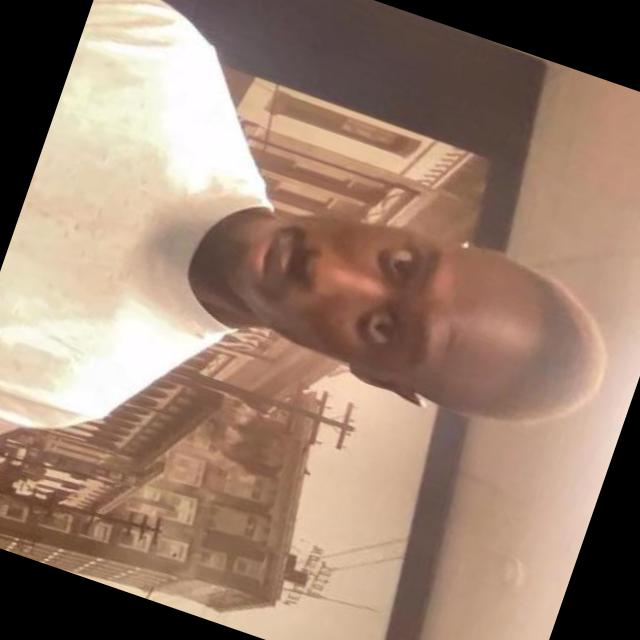bareface: (180, 152, 619, 473)
